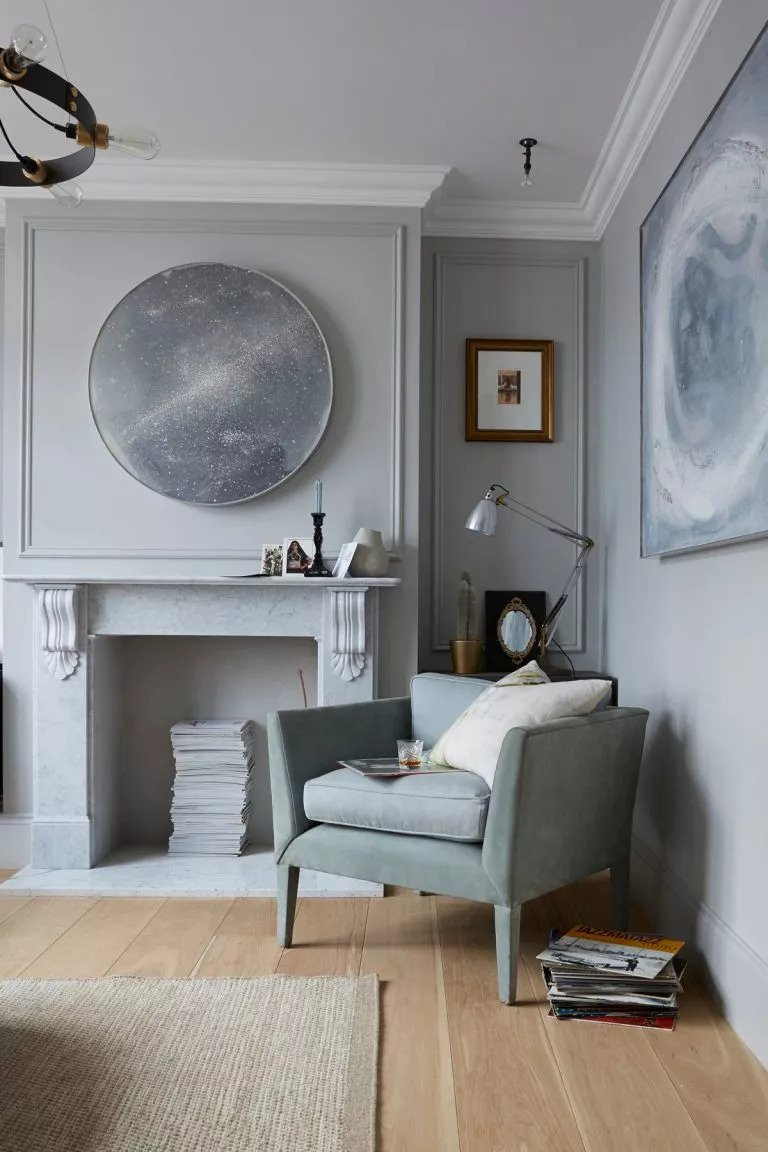buku: (533, 934, 694, 1033)
lampu: (469, 487, 609, 637)
lukisan: (631, 22, 768, 555)
sova: (270, 639, 653, 924)
